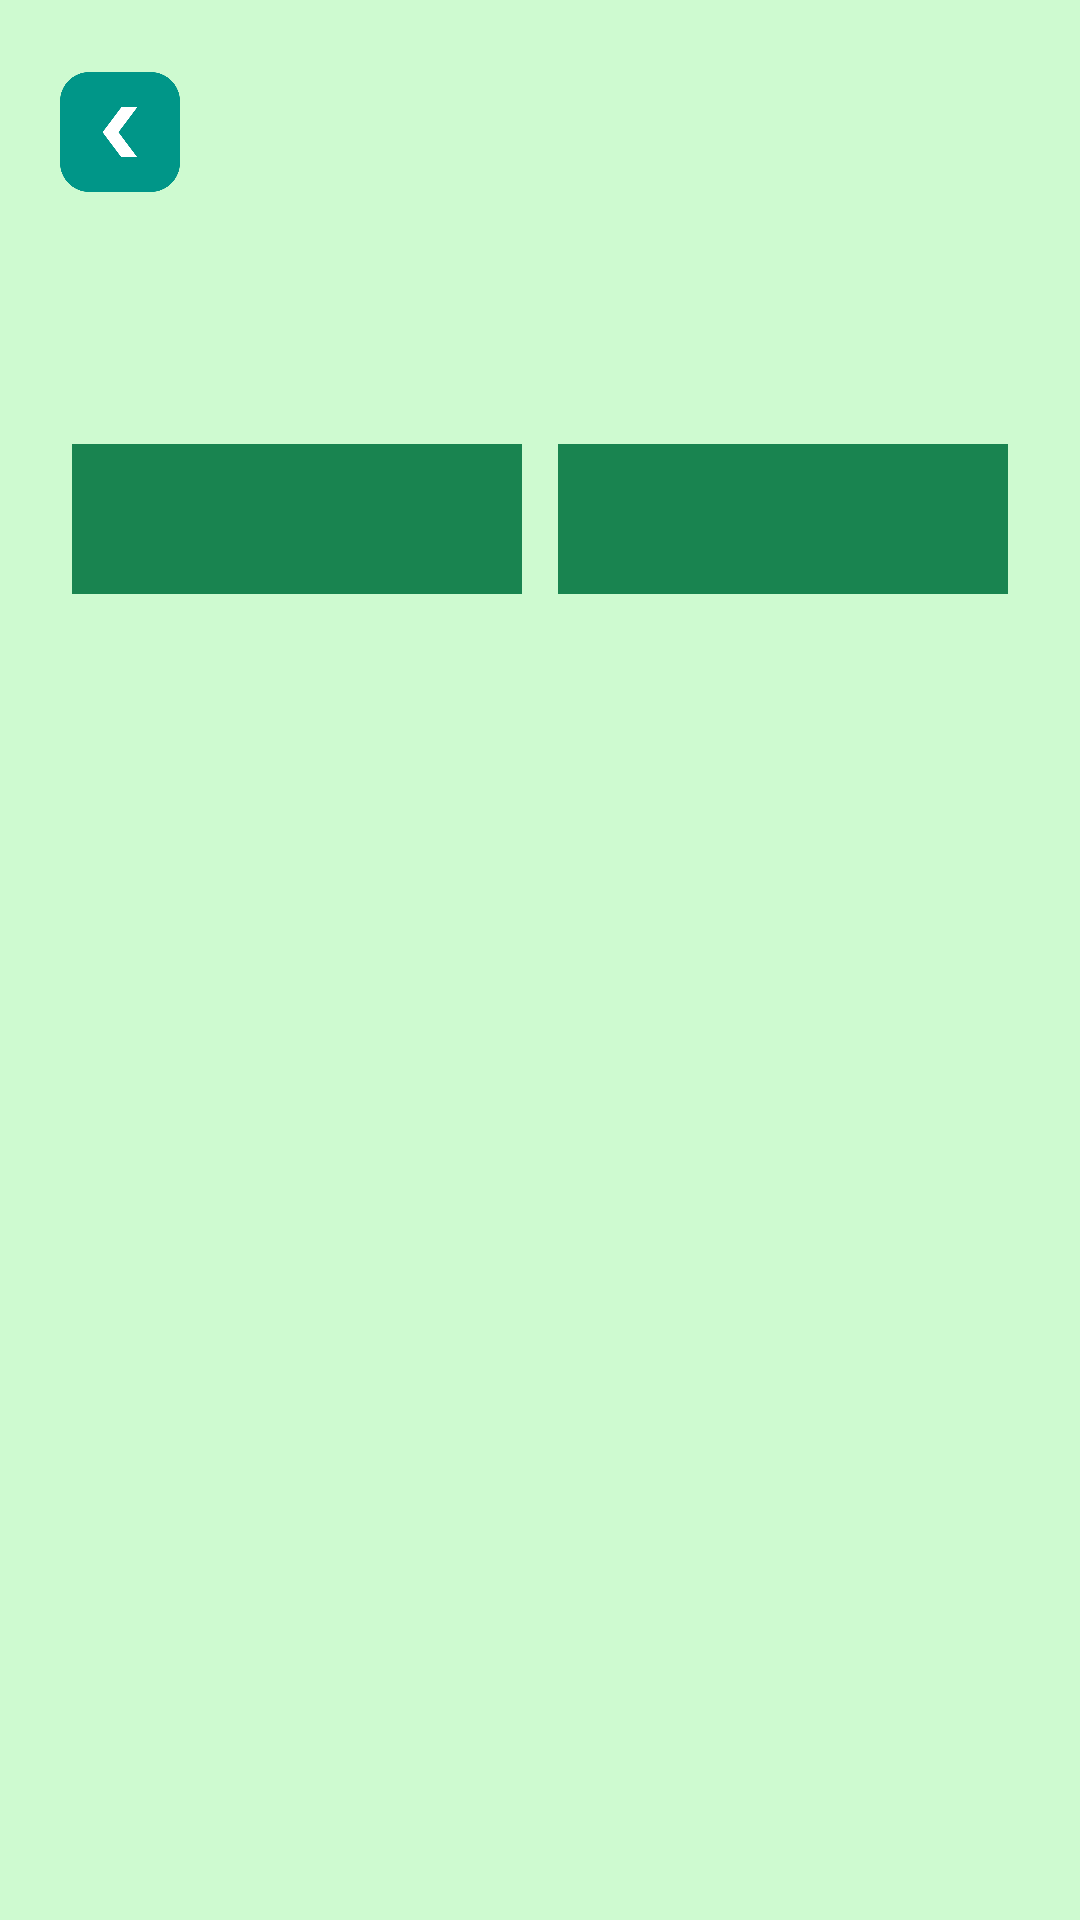

Screen size 1080*1920. Icon name, then its box in pixels as Rect(x1, y1, x2, y2):
backward: Rect(60, 72, 180, 192)
